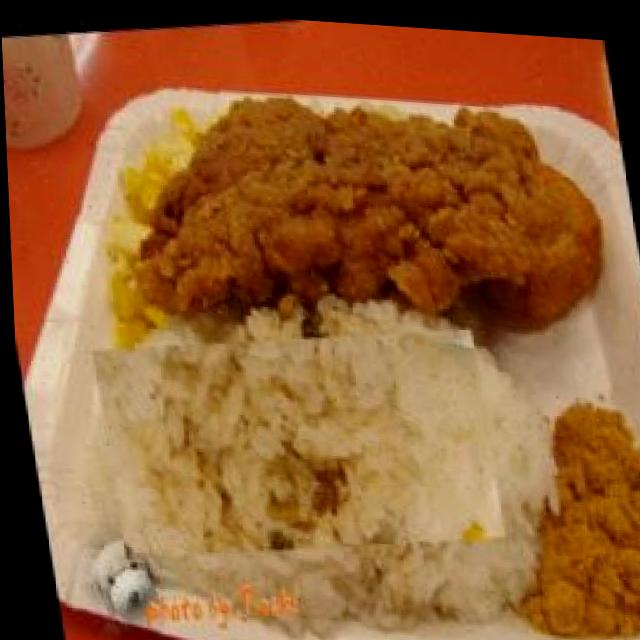fried_chicken: (115, 49, 569, 345)
rice: (85, 302, 502, 578)
